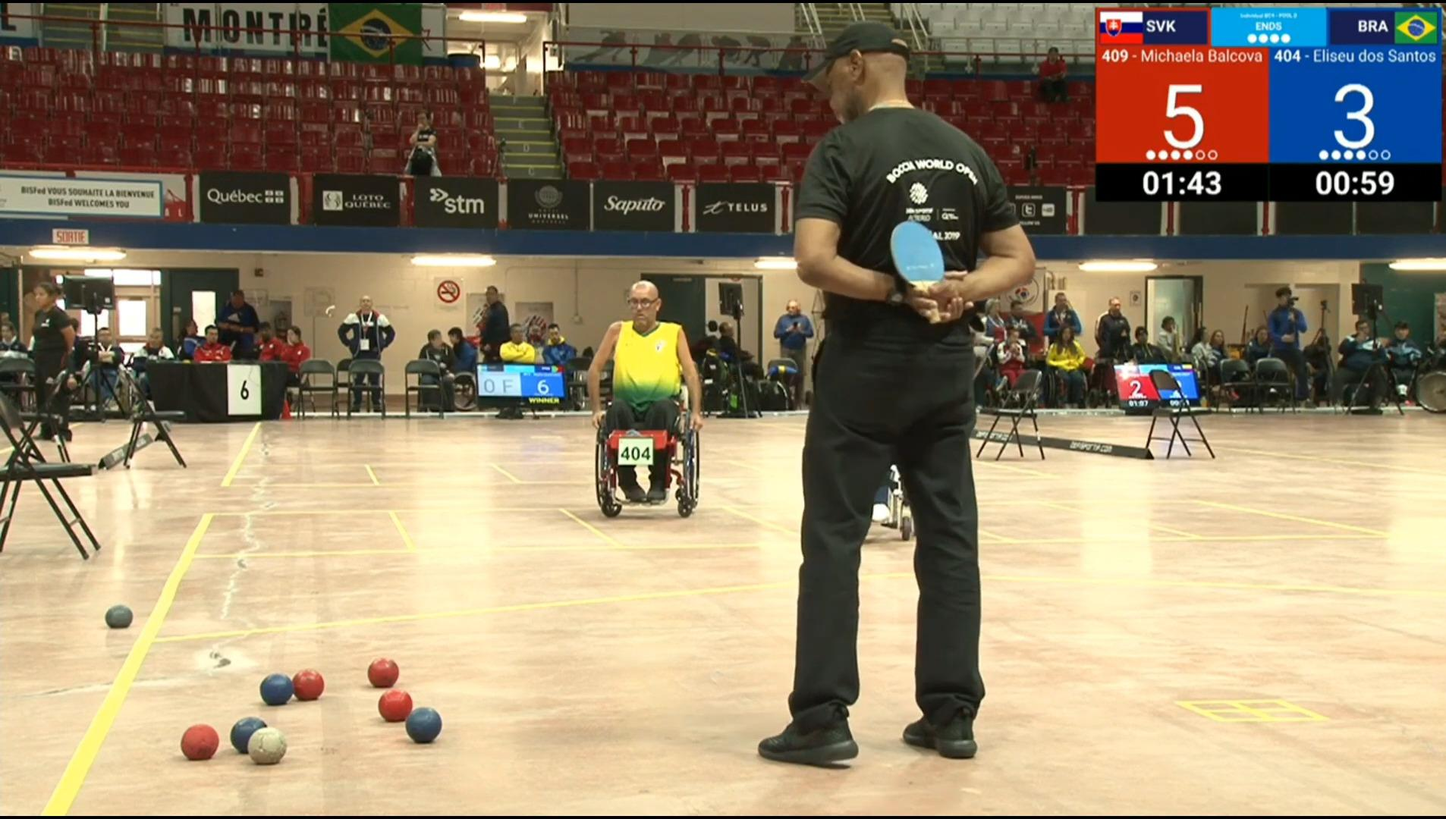blue_ball: (401, 705, 446, 747), (228, 715, 268, 751), (258, 671, 294, 707)
red_ball: (178, 722, 219, 763), (289, 666, 327, 703), (378, 688, 413, 725), (365, 656, 401, 688)
white_ball: (245, 725, 288, 769)
